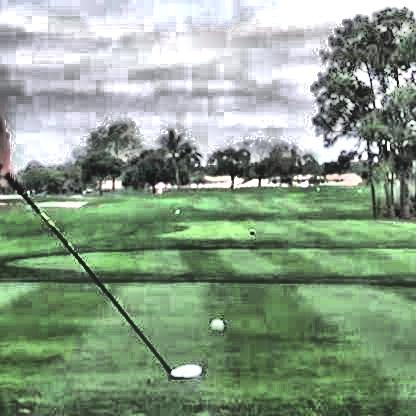golfball: (207, 315, 222, 331)
